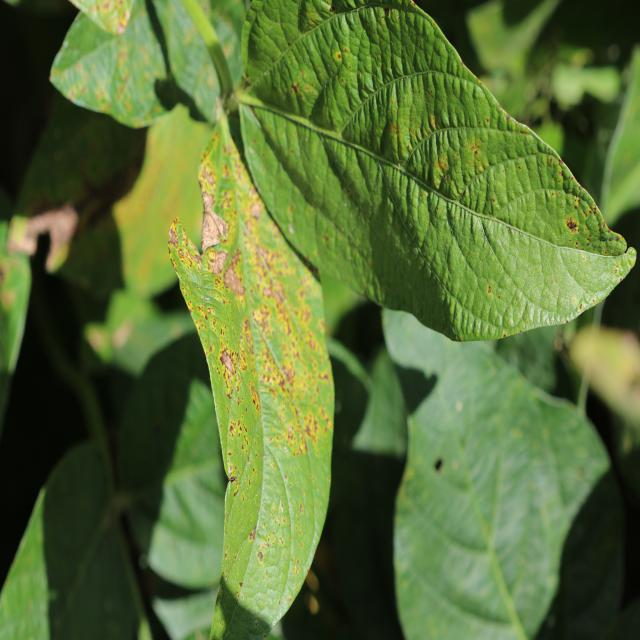Bacterial_Blight: (7, 202, 80, 271), (222, 260, 246, 305), (266, 279, 288, 308), (218, 87, 238, 117), (199, 162, 216, 191), (220, 348, 236, 377), (280, 363, 295, 388), (250, 385, 260, 414), (217, 218, 229, 240), (168, 227, 178, 247), (566, 217, 579, 232), (250, 202, 262, 218), (226, 474, 238, 486), (117, 18, 126, 34), (439, 157, 449, 171), (208, 248, 217, 260), (429, 115, 436, 128), (292, 82, 299, 93), (573, 198, 580, 209), (249, 530, 255, 541), (384, 7, 390, 17), (209, 345, 214, 353)
Soybean: (239, 0, 636, 341), (168, 108, 334, 640)
